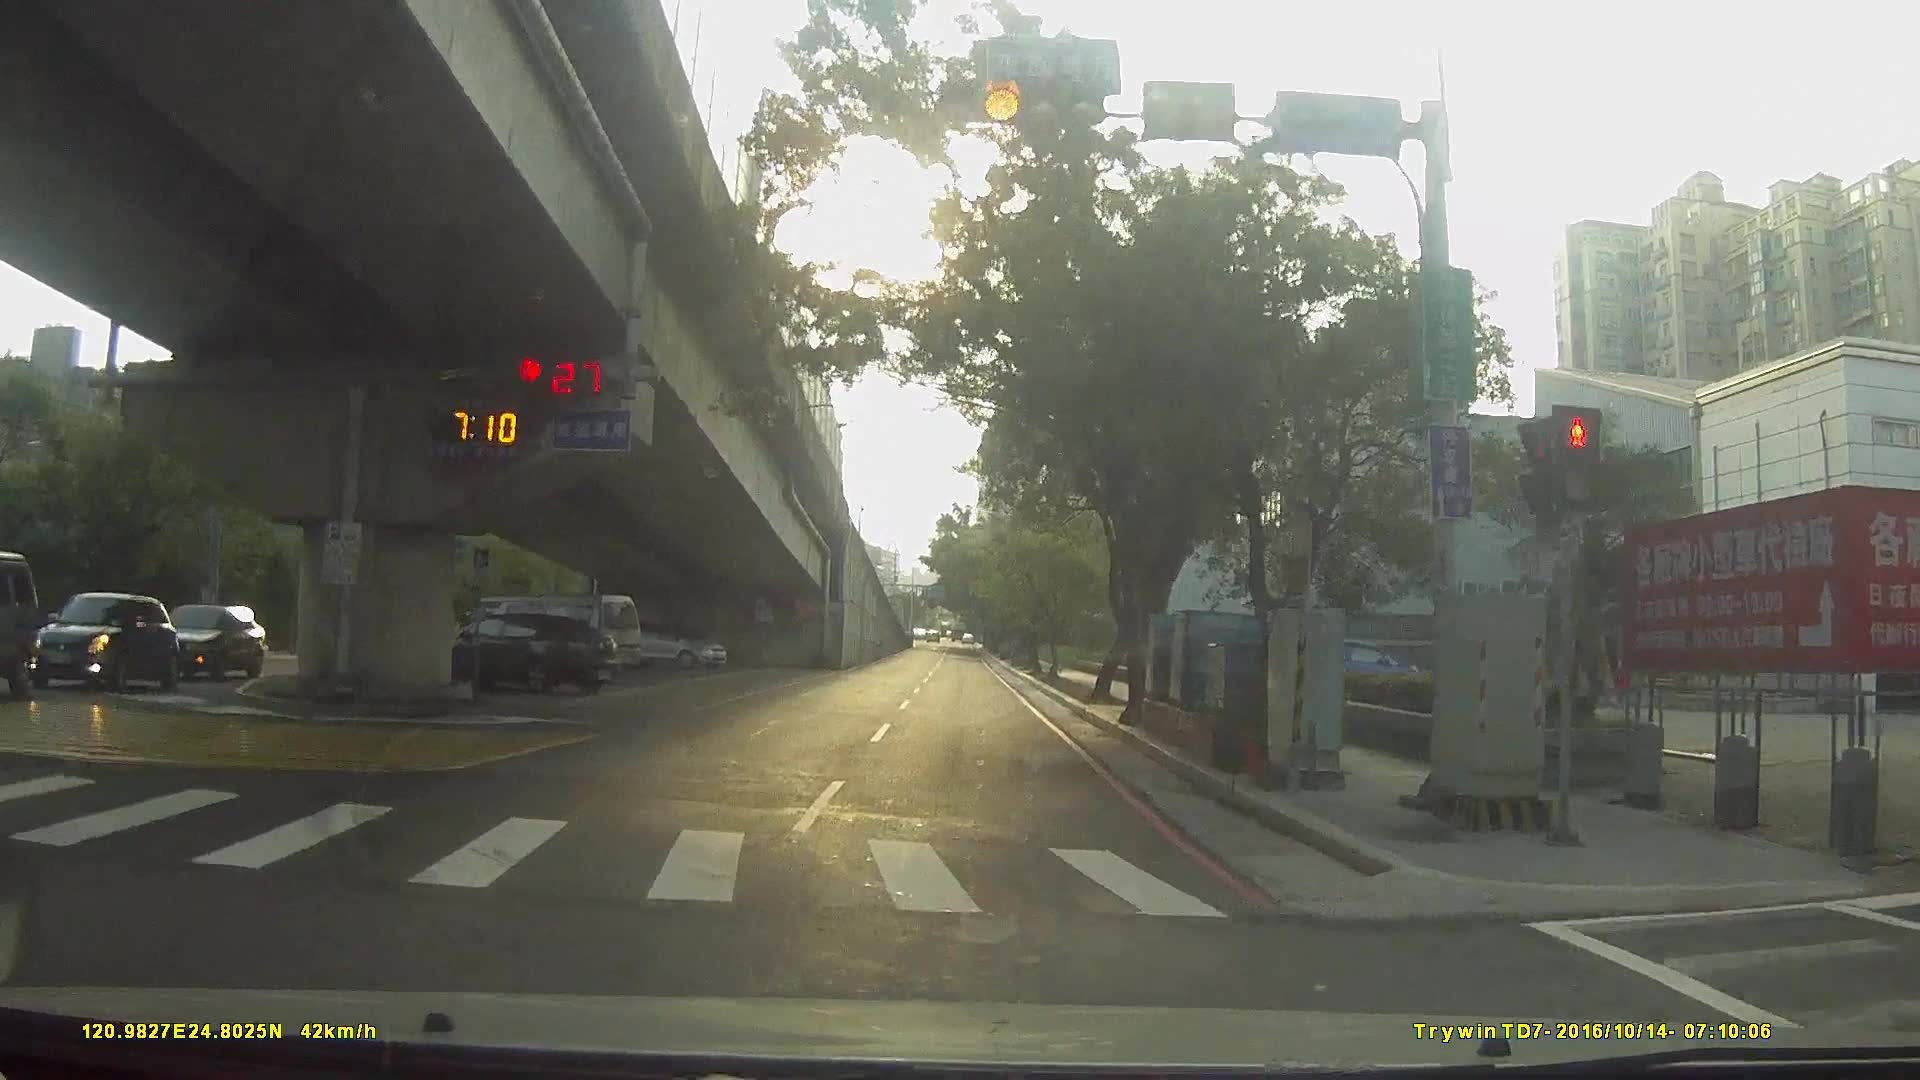vehicle: (443, 589, 637, 682), (411, 611, 611, 698), (24, 589, 182, 694), (138, 597, 278, 679), (1, 539, 53, 698), (608, 618, 725, 671)
